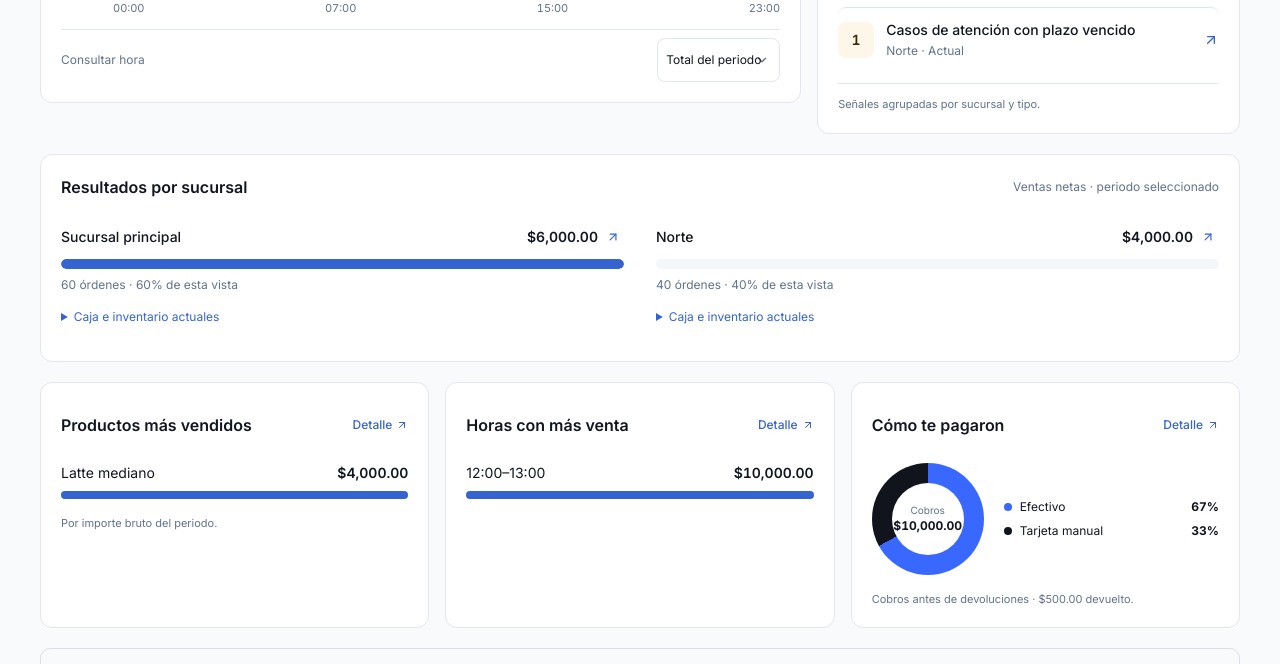
Test: dashboard supervision › shows unavailable sources without inventing cleared inventory or a healthy score
(page scrolled)
Expected: the text "Stock bajo" is not shown
Click the 1st heading "Caja e inventario actuales": x=147, y=316 x1=74 y1=309 x2=219 y2=324
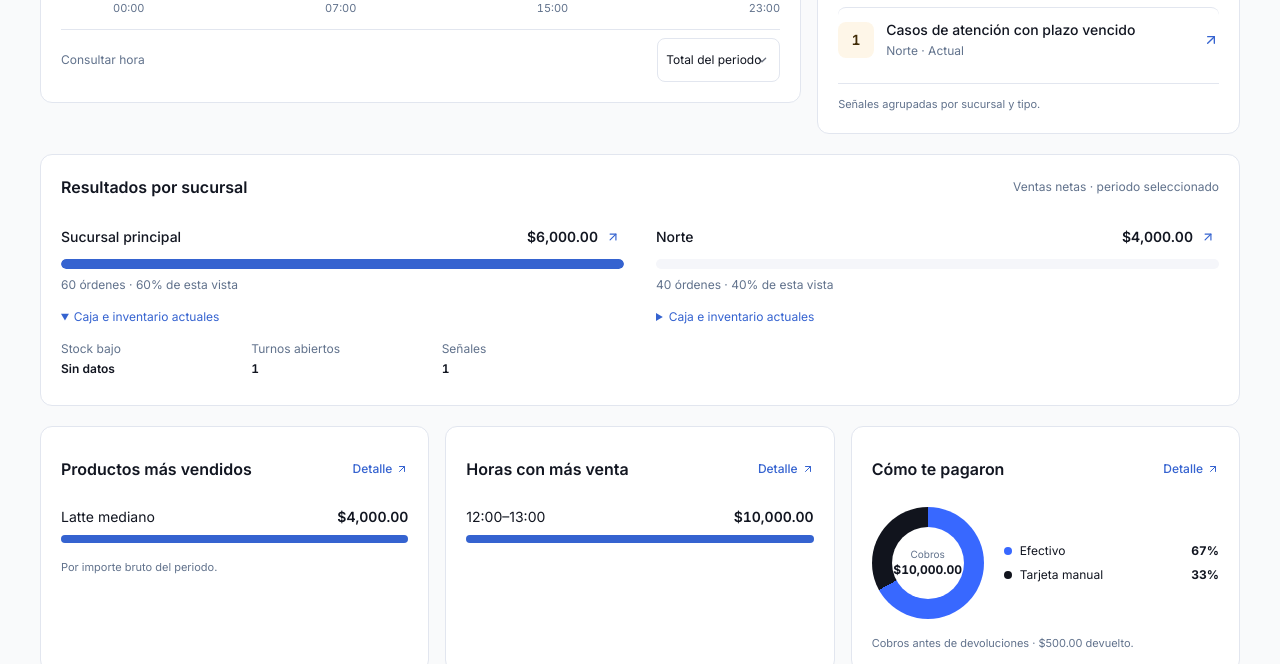
Click the 2nd heading "Caja e inventario actuales": x=742, y=316 x1=669 y1=309 x2=814 y2=324
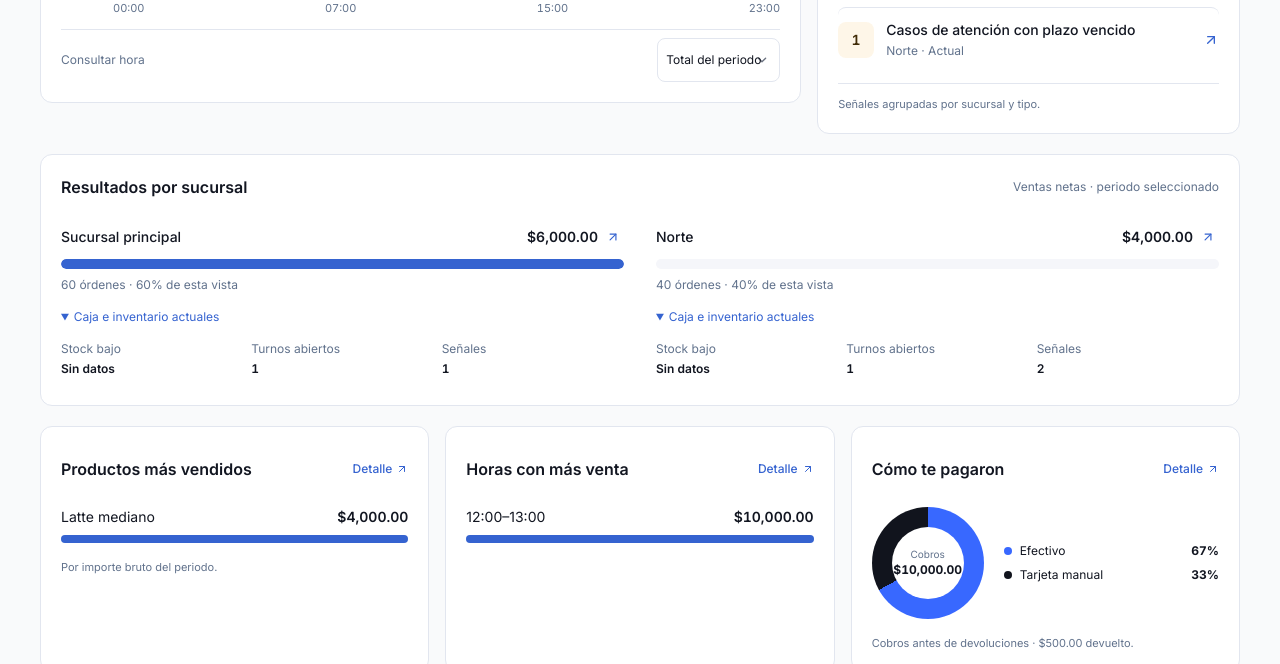
Result: the text "Sin datos" is shown 2 times at x1=61 y1=361 x2=115 y2=376; x1=656 y1=361 x2=710 y2=376
